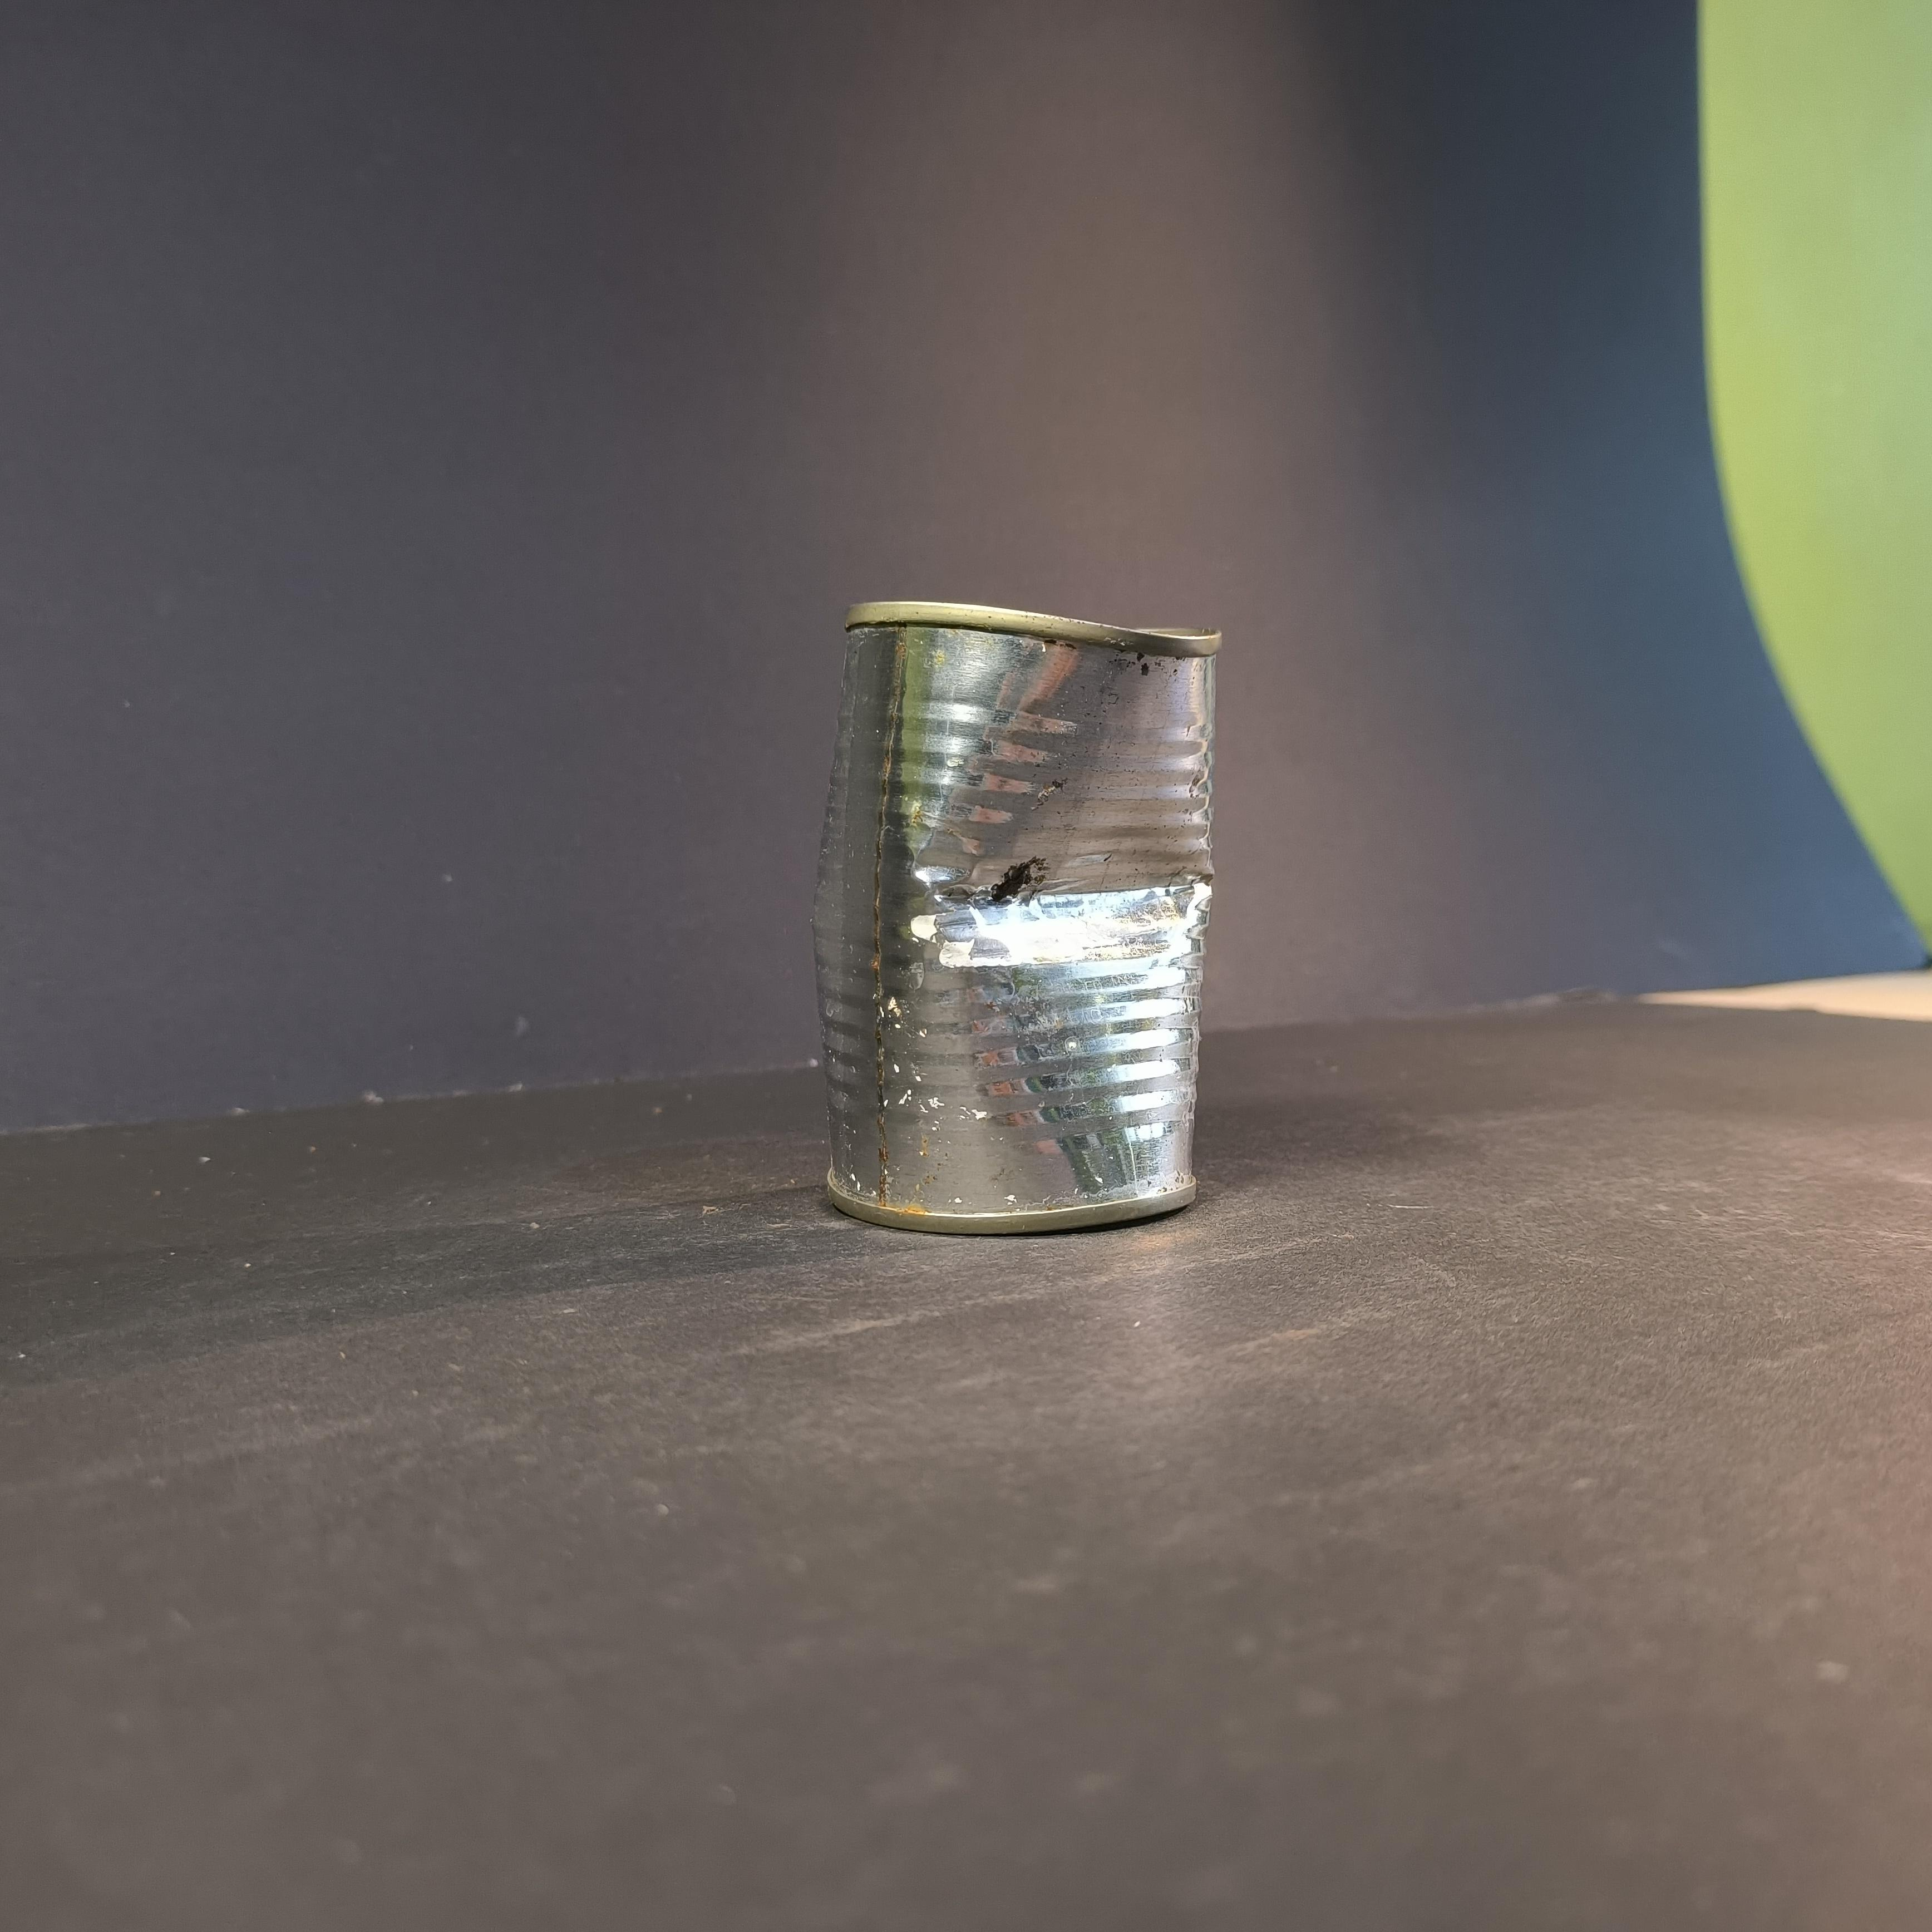Dented: (791, 579, 1249, 1240)
